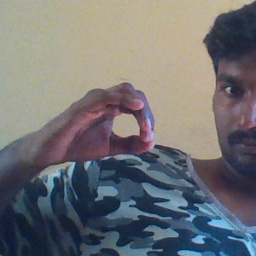O: (30, 80, 159, 166)
